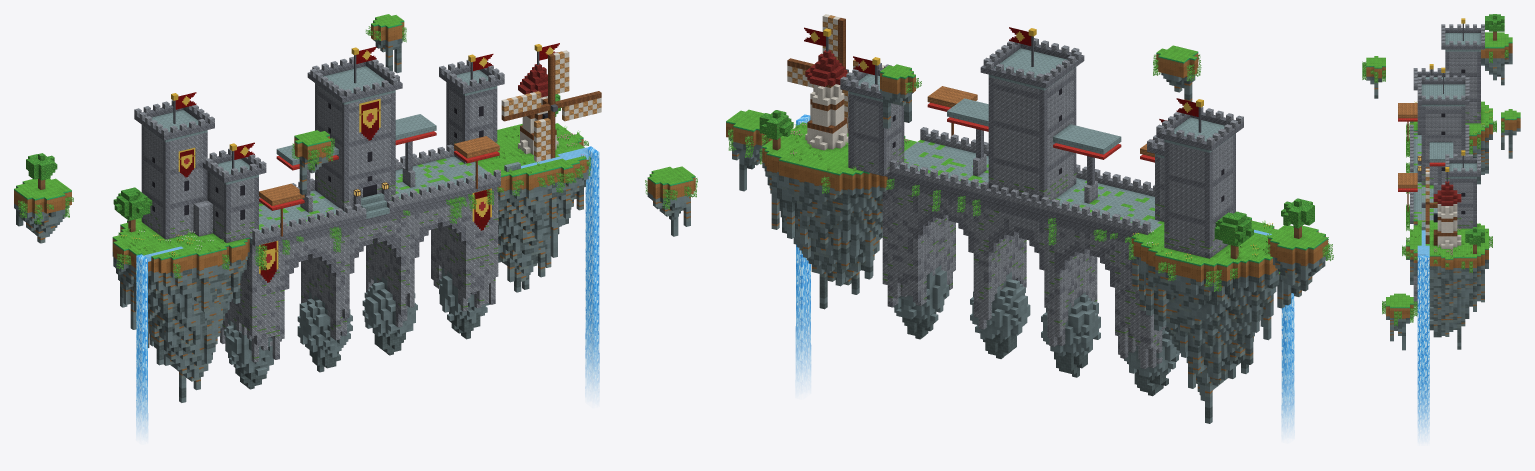
File: fort.glb
3 views of the same model, side by side, from view 1: azimuth 30°, elevation 25°; view 2: azimuth 150°, elevation 25°; view 3: azimuth 270°, elevation 25° (orthographic). The views are drawn at different scales.
Parts seen in each view (by area): view 1: fort_island_opaque, fort_island_cutout, windmill_sails_opaque, waterfall_right, waterfall_left, banner (×2); view 2: fort_island_opaque, fort_island_cutout, waterfall_right, waterfall_left, windmill_sails_opaque; view 3: fort_island_opaque, waterfall_right, fort_island_cutout, windmill_sails_opaque, fort_island_emissive.
Boxes of the visible parts, x1,y1,x2,y2 form: fort_island_opaque: (14, 14, 695, 402); fort_island_cutout: (18, 26, 697, 278); windmill_sails_opaque: (501, 50, 601, 161); waterfall_right: (585, 146, 599, 395); waterfall_left: (136, 254, 148, 434); banner (×2): (359, 98, 491, 230); fort_island_opaque: (726, 38, 1327, 423); fort_island_cutout: (728, 54, 1333, 291); waterfall_right: (795, 114, 811, 386); waterfall_left: (1281, 293, 1294, 432); windmill_sails_opaque: (787, 14, 884, 133); fort_island_opaque: (1366, 24, 1520, 350); waterfall_right: (1417, 255, 1429, 436); fort_island_cutout: (1362, 14, 1508, 326); windmill_sails_opaque: (1421, 167, 1429, 243); fort_island_emissive: (1417, 156, 1429, 255).
Bounding box in the file's own units: 132 × 85.5 × 40.
Materials: 14 (14 with a texture image).
